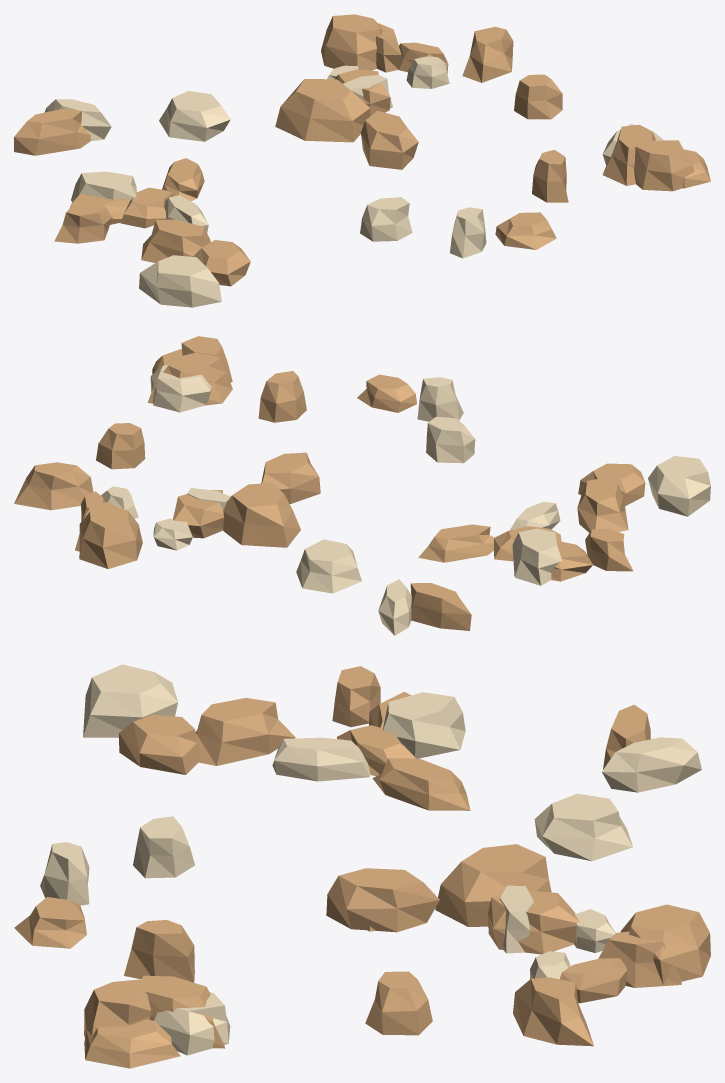
Rendered from desert-canyons-and-oases-scree-scatter-302b3282__21033.glb.
The picture shows the model from 3 angles, top to bottom: view 1: azimuth 30°, elevation 25°; view 2: azimuth 150°, elevation 25°; view 3: azimuth 270°, elevation 25°; orthographic projection. The views are drawn at different scales.
Parts seen in each view (by area): view 1: scree-scatter; view 2: scree-scatter; view 3: scree-scatter.
Boxes of the visible parts, bbox=[...] form: scree-scatter: bbox=[14, 14, 710, 307]; scree-scatter: bbox=[14, 336, 710, 635]; scree-scatter: bbox=[14, 664, 710, 1068].
Size of the model in its own units: 2.69 by 0.164 by 2.12.
